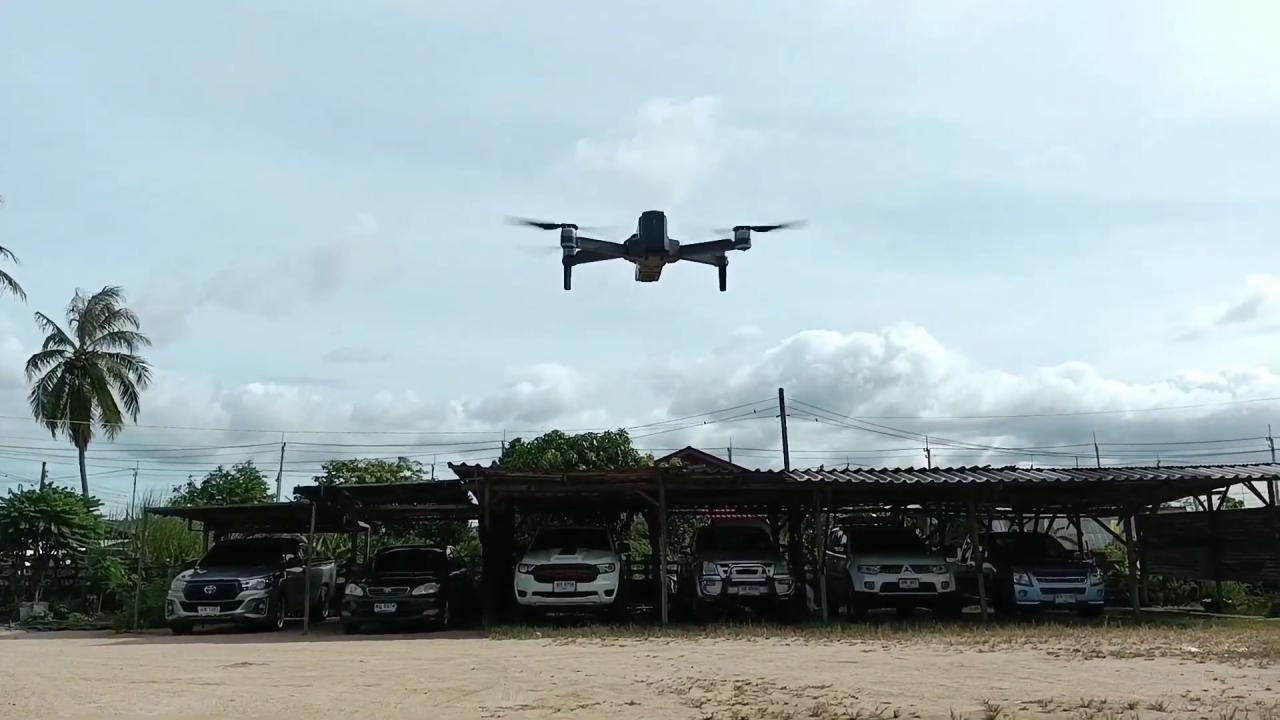Drone: (494, 198, 829, 310)
